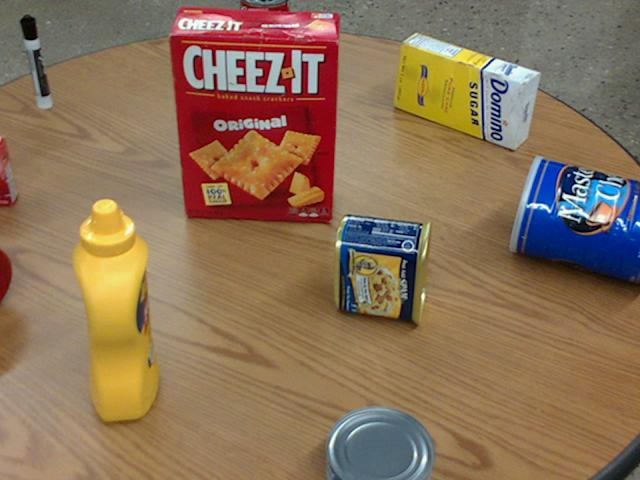cracker_box: (170, 8, 341, 217)
gelatin_box: (0, 136, 19, 204)
large_marker: (21, 15, 52, 108)
master_chef_can: (508, 155, 639, 284)
mug: (0, 246, 14, 304)
mustard_bottle: (72, 198, 158, 419)
potted_meat_can: (334, 213, 431, 324)
sugar_box: (394, 32, 541, 148)
tomato_soup_can: (241, 0, 290, 72)
tuna_fish_can: (324, 406, 432, 479)
